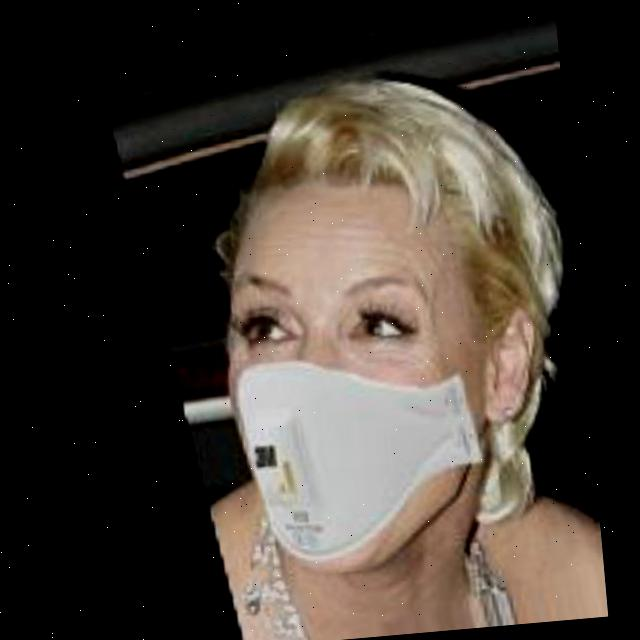suspicion: (157, 0, 556, 609)
